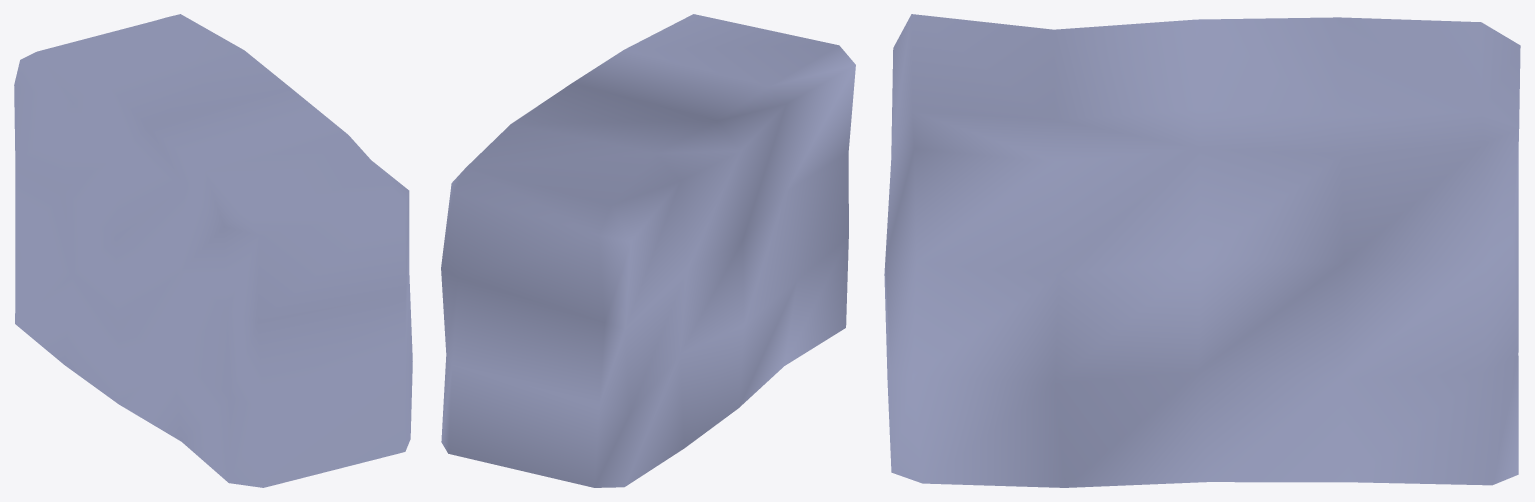
Rendered from Fr_HedgeRow.FBX.
The picture shows the model from 3 angles, left to right: view 1: azimuth 30°, elevation 25°; view 2: azimuth 150°, elevation 25°; view 3: azimuth 270°, elevation 25°; orthographic projection. The views are drawn at different scales.
Parts seen in each view (by area): view 1: Bush; view 2: Bush; view 3: Bush.
Boxes of the visible parts, x1=… form: Bush: x1=14, y1=14, x2=412, y2=487; Bush: x1=441, y1=14, x2=855, y2=487; Bush: x1=884, y1=14, x2=1520, y2=487.
Size of the model in its own units: 0.739 by 1.01 by 1.58.
